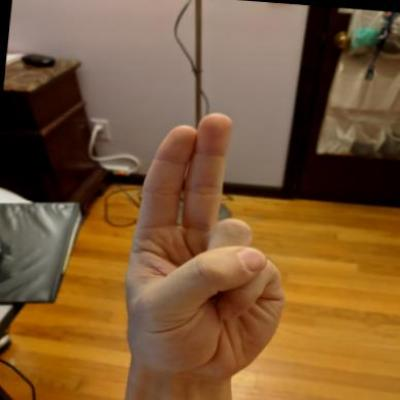hand: (111, 102, 309, 386)
